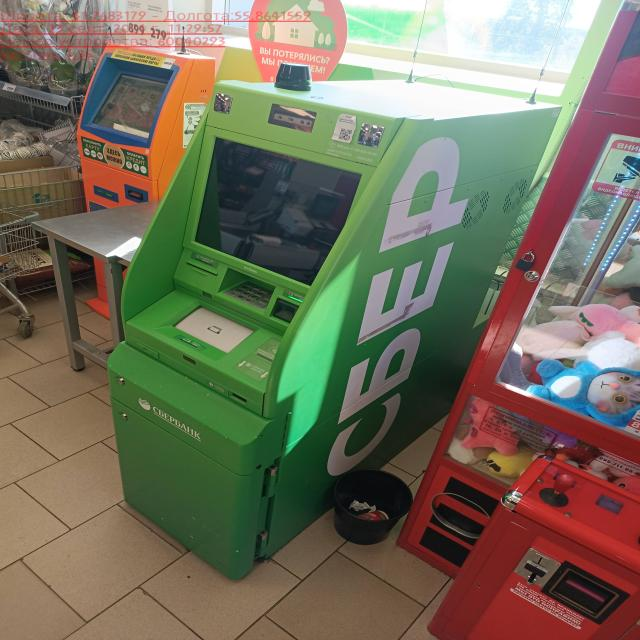bank: (107, 75, 564, 573)
